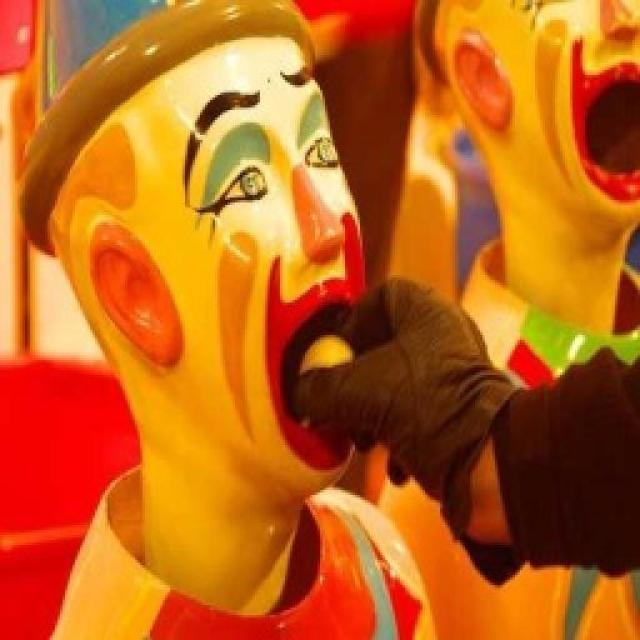oball: (298, 333, 354, 397)
